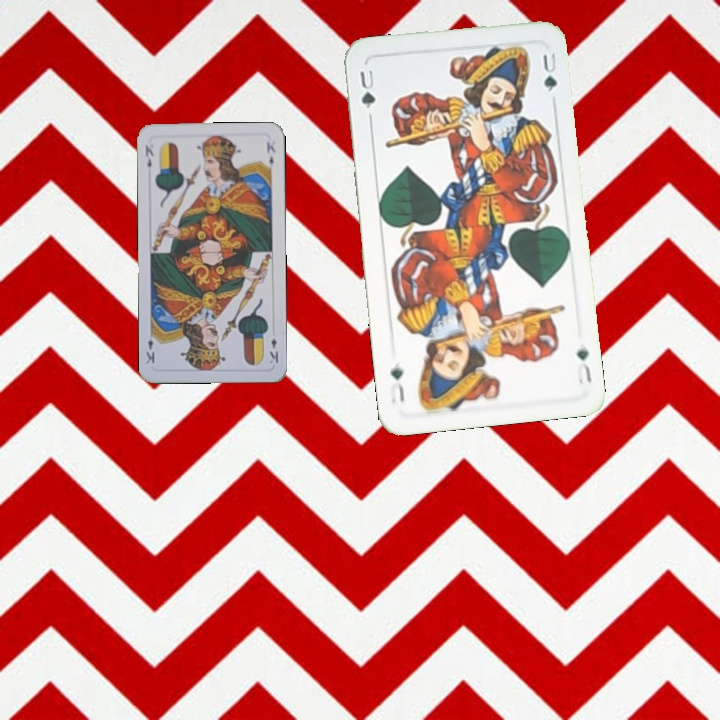EK: (266, 334, 281, 366), (141, 141, 156, 170)
GU: (355, 65, 378, 111), (572, 343, 594, 387)
